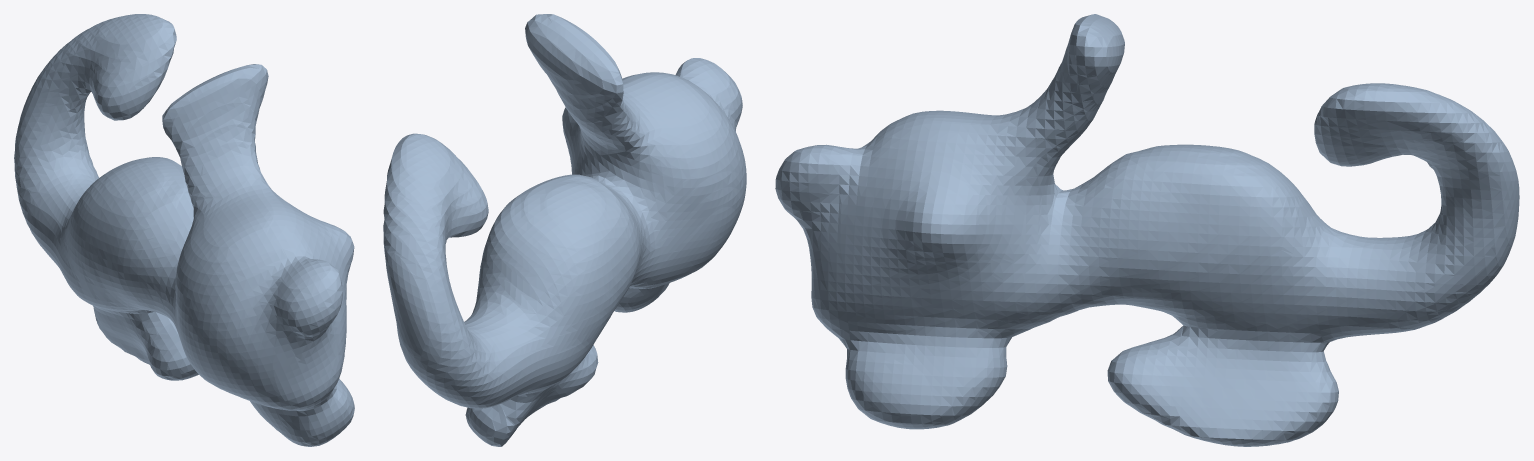
3 views of the same model, side by side, from view 1: azimuth 30°, elevation 25°; view 2: azimuth 150°, elevation 25°; view 3: azimuth 270°, elevation 25° (orthographic). The views are drawn at different scales.
Parts seen in each view (by area): view 1: ours_mesh; view 2: ours_mesh; view 3: ours_mesh.
Part boxes in pixels (x1,y1,x2,y2): ours_mesh: (14,14,354,446); ours_mesh: (383,14,746,446); ours_mesh: (775,14,1519,446).
Size of the model in its own units: 0.1895 by 0.3845 by 0.6.
